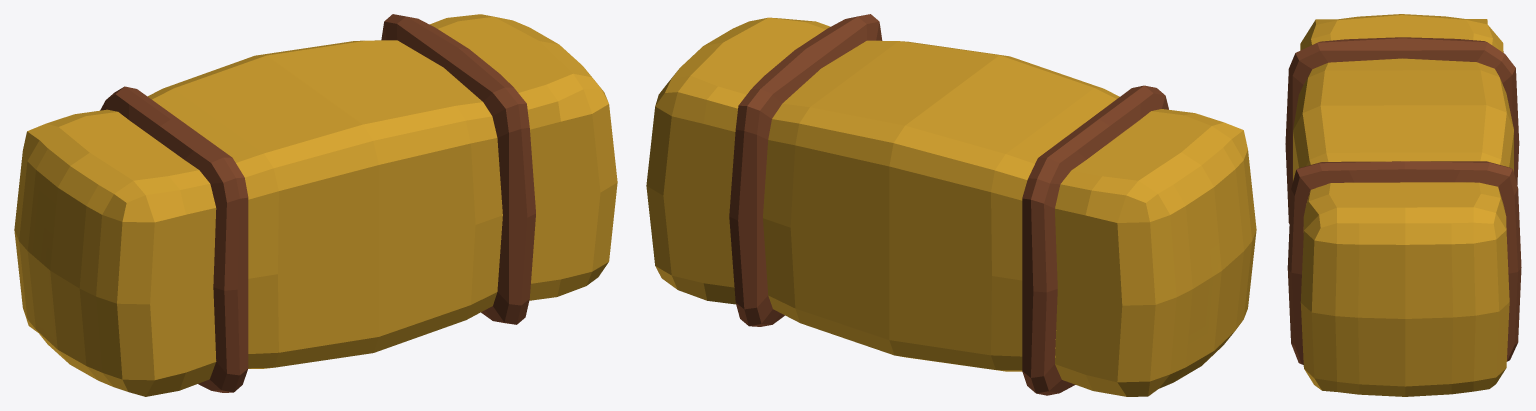
File: Hay_1.glb
3 views of the same model, side by side, from view 1: azimuth 30°, elevation 25°; view 2: azimuth 150°, elevation 25°; view 3: azimuth 270°, elevation 25° (orthographic). The views are drawn at different scales.
Parts seen in each view (by area): view 1: Hay bale 1; view 2: Hay bale 1; view 3: Hay bale 1.
Part boxes in pixels (bbox=[...]): Hay bale 1: bbox=[14, 14, 617, 396]; Hay bale 1: bbox=[646, 14, 1256, 396]; Hay bale 1: bbox=[1285, 14, 1521, 396].
Size of the model in its own units: 1.29 by 0.5611 by 0.5672.
